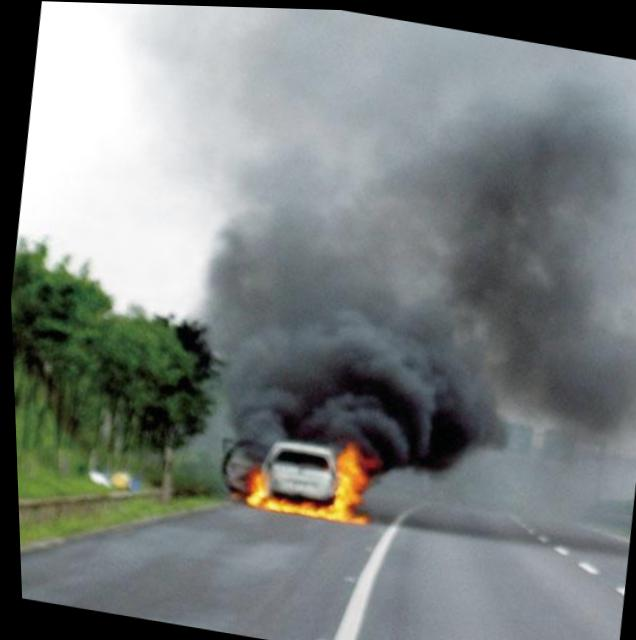fire: (232, 410, 385, 528)
